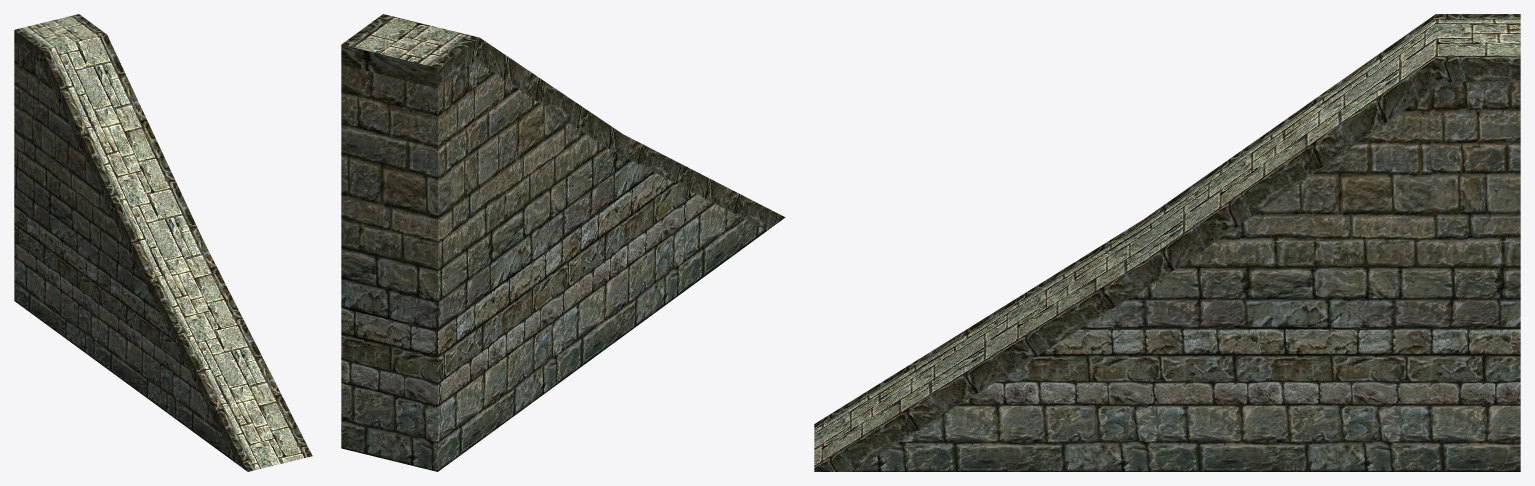
3 renders of one model, left to right at view 1: azimuth 30°, elevation 25°; view 2: azimuth 150°, elevation 25°; view 3: azimuth 270°, elevation 25°, orthographic. The views are drawn at different scales.
Parts seen in each view (by area): view 1: cc55-col; view 2: cc55-col; view 3: cc55-col.
Part boxes in pixels (x1,y1,x2,y2): cc55-col: [14, 14, 312, 471]; cc55-col: [341, 14, 785, 471]; cc55-col: [814, 14, 1520, 471].
Size of the model in its own units: 2 by 8 by 12.49.
3 materials, 3 textured.
